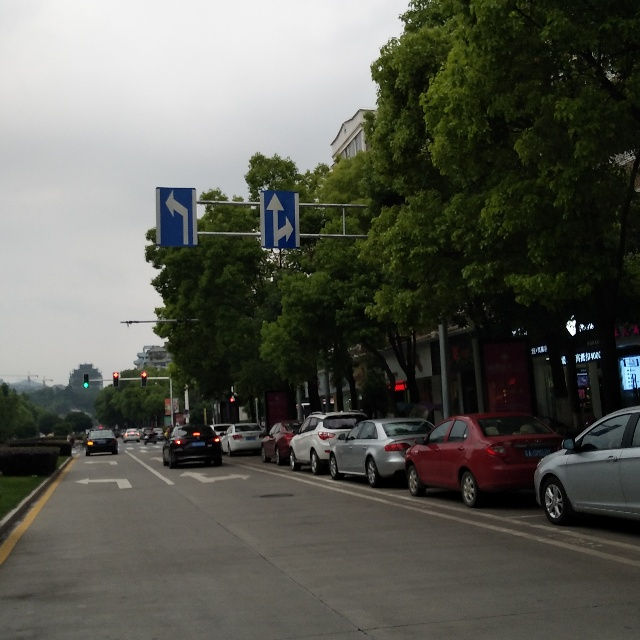left: (155, 184, 198, 247)
